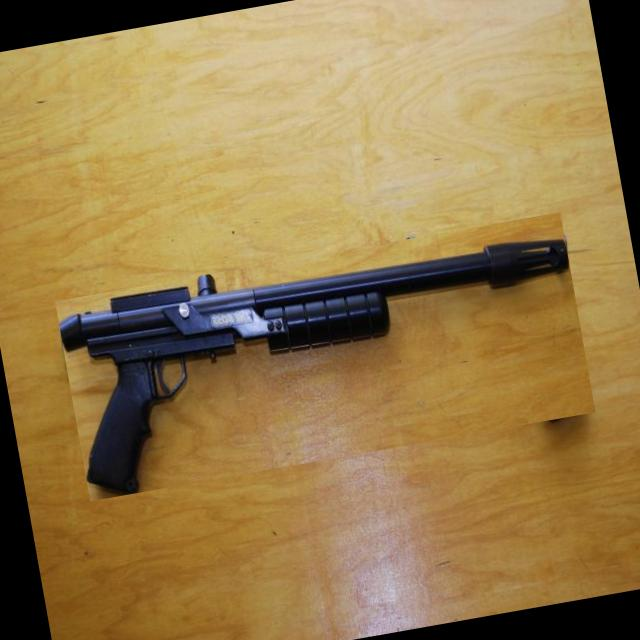Gun: (59, 239, 569, 494)
